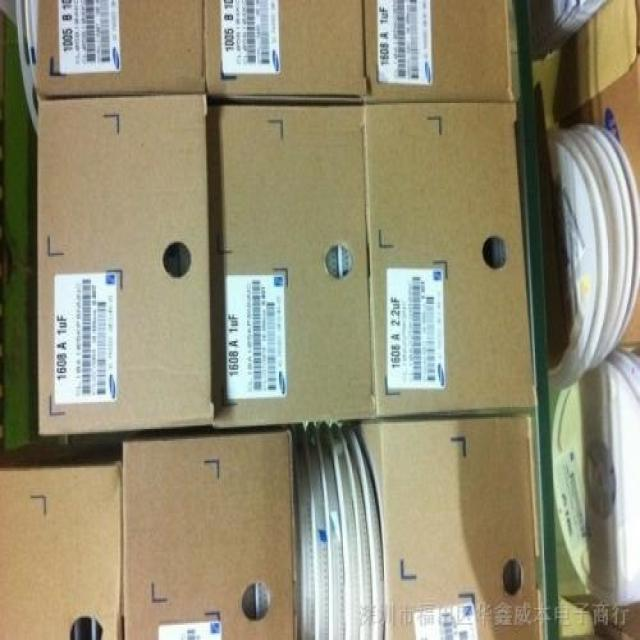box: (37, 95, 214, 434), (364, 101, 535, 419), (209, 103, 374, 429), (123, 429, 300, 640), (380, 412, 540, 640), (0, 464, 122, 640), (36, 0, 205, 96), (204, 0, 365, 100), (365, 0, 515, 101)
